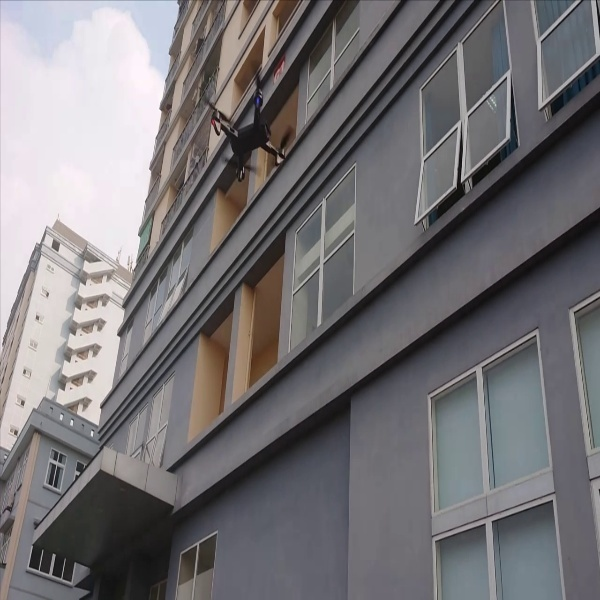drone: (197, 74, 298, 179)
